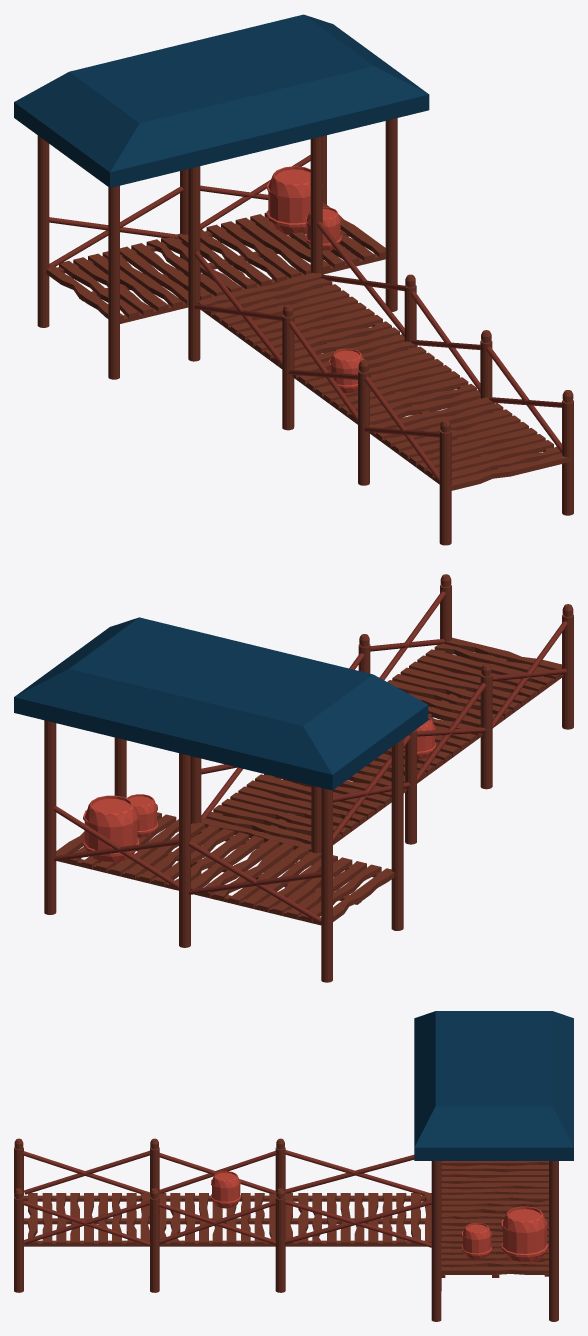
File: PIER LOD.fbx
The picture shows the model from 3 angles, top to bottom: view 1: azimuth 30°, elevation 25°; view 2: azimuth 150°, elevation 25°; view 3: azimuth 270°, elevation 25°; orthographic projection. The views are drawn at different scales.
Parts seen in each view (by area): view 1: PIER_LOD0; view 2: PIER_LOD0; view 3: PIER_LOD0.
Boxes of the visible parts, x1,y1,x2,y2 form: PIER_LOD0: (14, 14, 573, 545); PIER_LOD0: (14, 574, 573, 982); PIER_LOD0: (14, 1011, 573, 1321).
Size of what is drawn, in the model's own units: 1298 by 970 by 2372.
